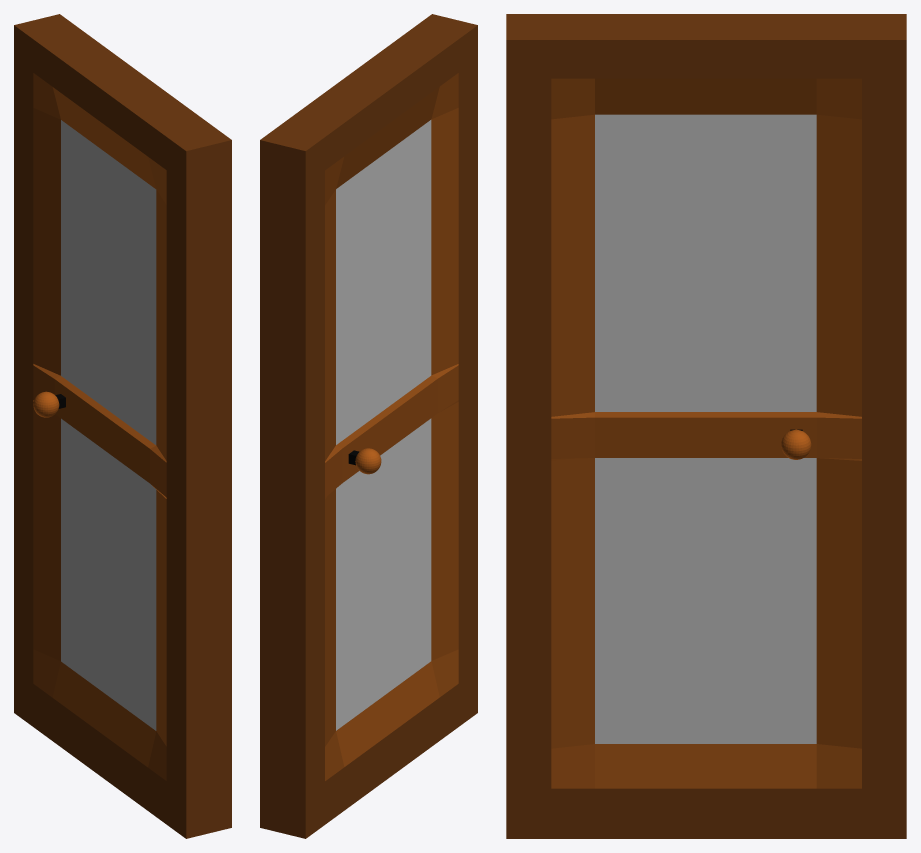
File: porte.fbx
3 views of the same model, side by side, from view 1: azimuth 30°, elevation 25°; view 2: azimuth 150°, elevation 25°; view 3: azimuth 270°, elevation 25° (orthographic). The views are drawn at different scales.
Parts seen in each view (by area): view 1: Cube.001; view 2: Cube.001; view 3: Cube.001.
Part boxes in pixels (x1,y1,x2,y2): Cube.001: [14, 14, 231, 838]; Cube.001: [260, 14, 477, 838]; Cube.001: [506, 14, 906, 838].
Bounding box in the file's own units: 119 × 795 × 361.
